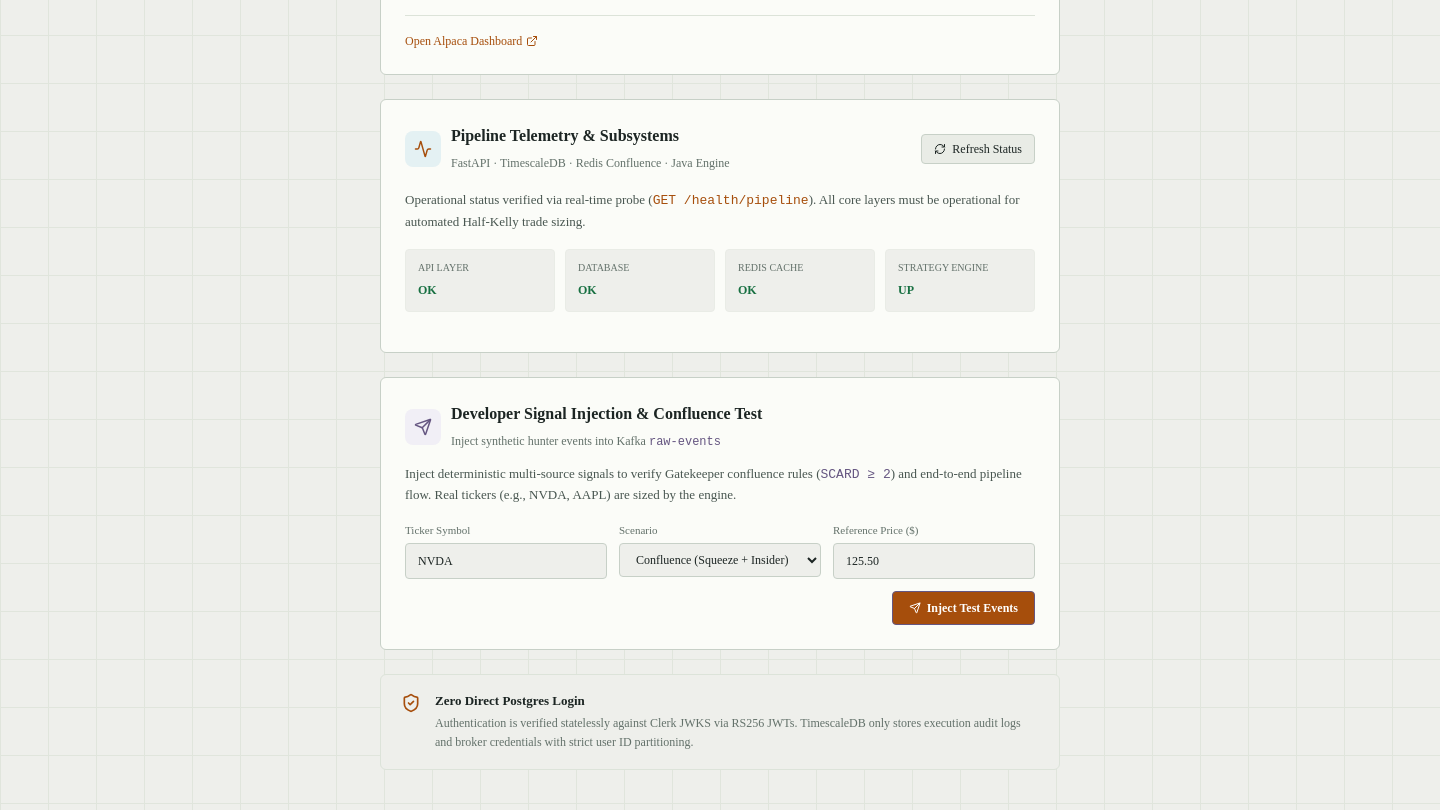
Test: SettingsPage › renders synthetic signal injection form and handles submission
The image size is (1440, 810).
(page scrolled)
Expected: the heading "Developer Signal Injection & Confluence Test" is shown, [451, 402, 762, 426]
Type "TSLA" into the field showing "NVDA" below "Ticker Symbol".
click(506, 561); type("TSLA")  # box [405, 543, 607, 579]
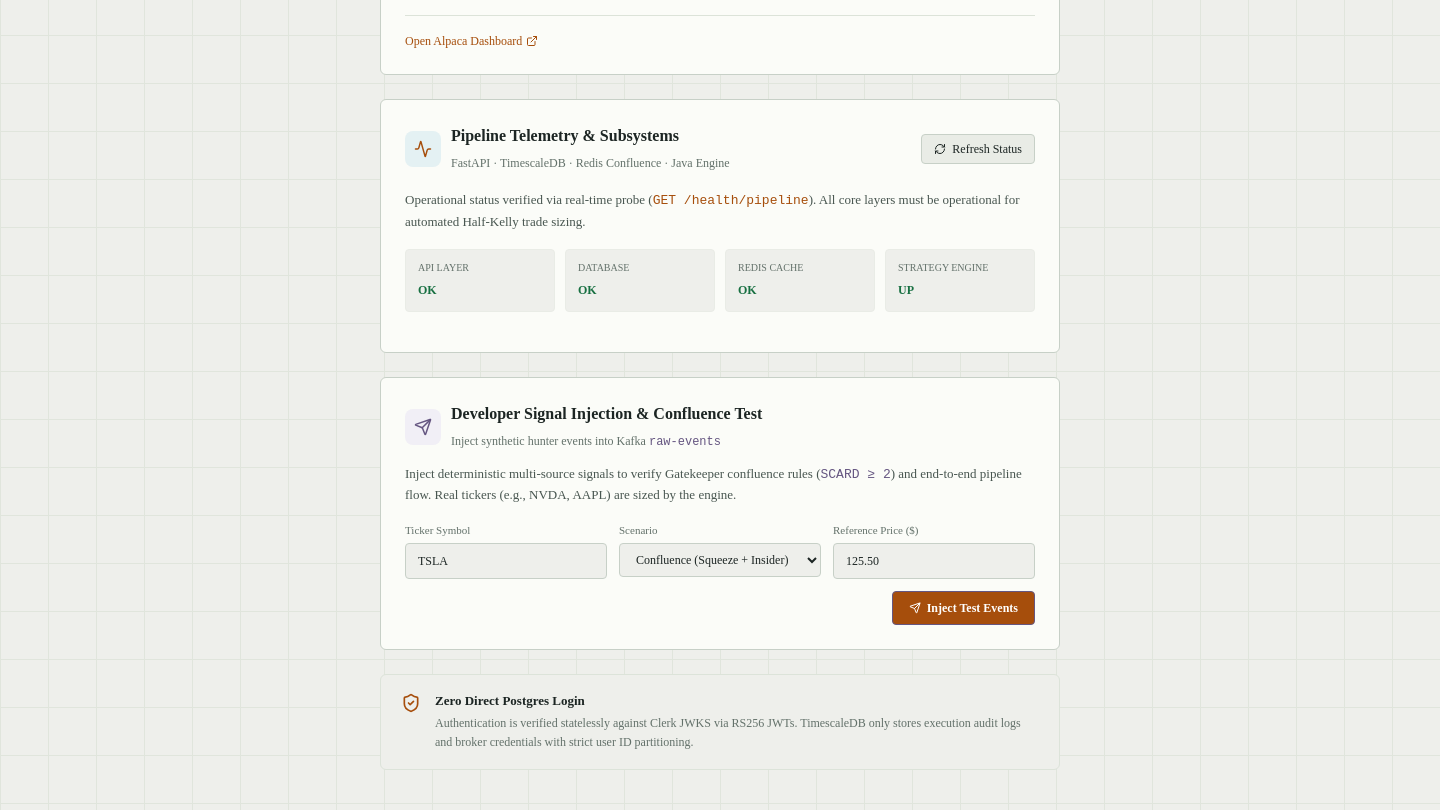
Click the button "Inject Test Events".
click(963, 608)  # box [892, 591, 1035, 625]
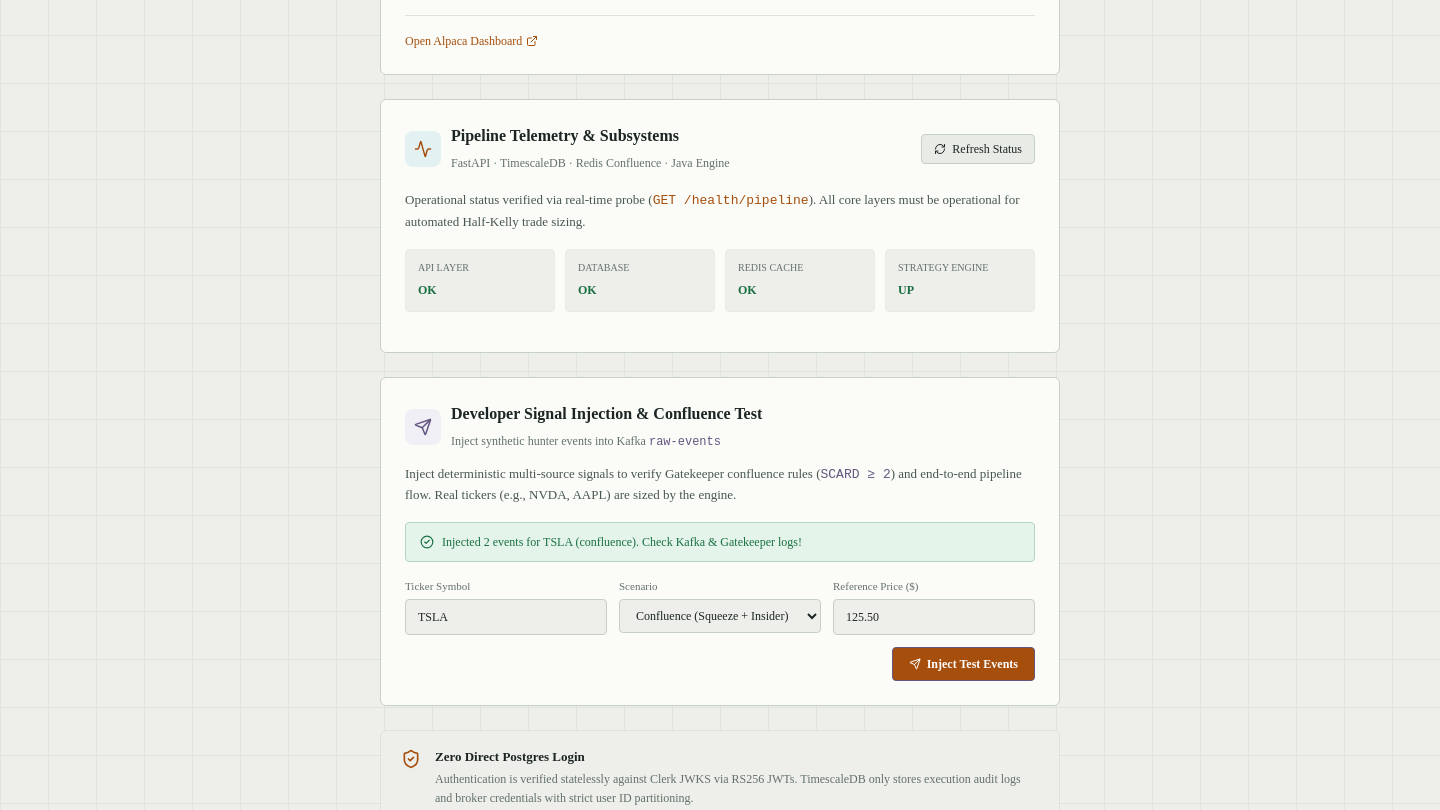
Expected: the text "Injected 2 events for TSLA (confluence)" is shown, [442, 535, 802, 549]
